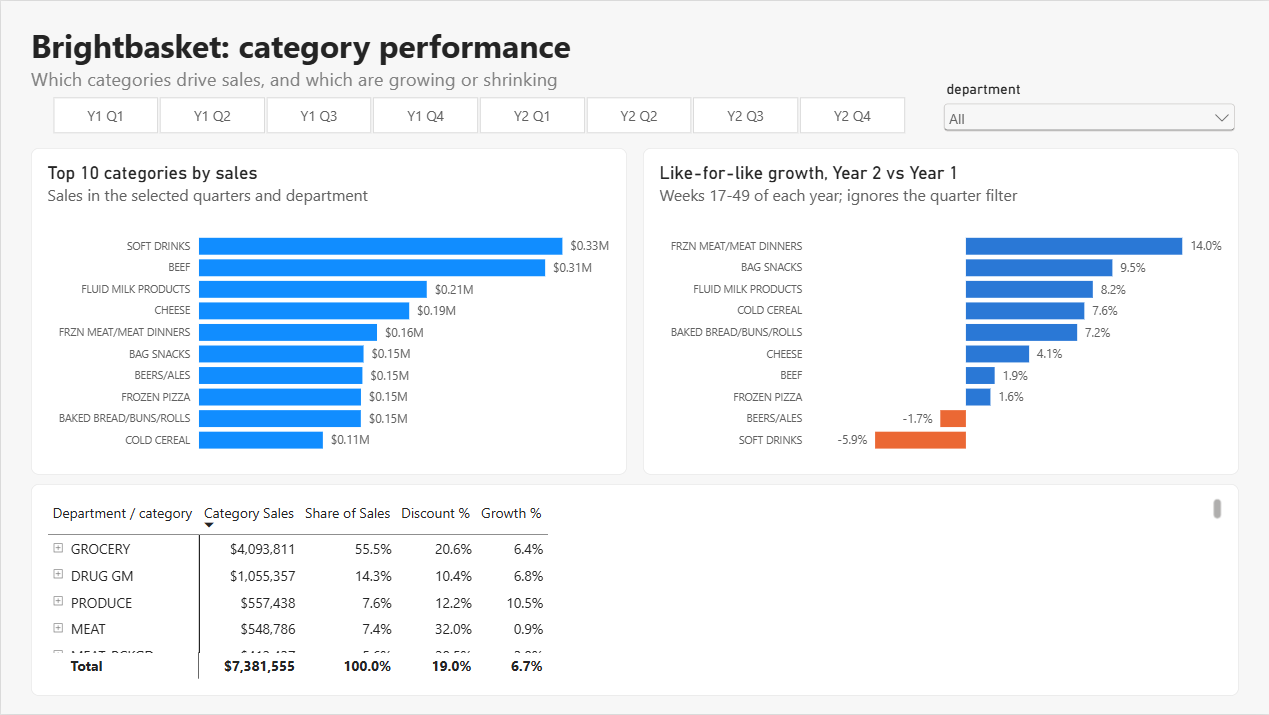

What the dashboard file says about the page in this screenshot:
{"tool":"powerbi","page":{"name":"Category performance","canvas":[1280,720],"ordinal":1},"visuals":[{"type":"textbox","box":[31,23,548,72],"z":0},{"type":"slicer","fields":{"Values":["fact_category_week.department"]},"box":[947,80,304,56],"z":1000},{"type":"slicer","fields":{"Values":["dim_week.Quarter"]},"box":[31.1,96,900,40],"z":2000},{"type":"clusteredBarChart","title":"Top 10 categories by sales","fields":{"Category":["fact_category_week.commodity_desc"],"Y":["_Measures.Category Sales"]},"box":[31,148,602,330],"z":3000},{"type":"clusteredBarChart","title":"Like-for-like growth, Year 2 vs Year 1","fields":{"Category":["fact_category_week.commodity_desc"],"Y":["_Measures.Growth %"]},"box":[649,148,602,330],"z":4000},{"type":"pivotTable","fields":{"Values":["_Measures.Category Sales","_Measures.Share of Sales","_Measures.Category Discount %","_Measures.Growth %"],"Rows":["fact_category_week.department","fact_category_week.commodity_desc"]},"box":[31,488,1220,214],"z":5000}]}

Visuals, with their boxes in screenshot pixels (x1, y1, x2, y2), scaled from the page's 1280x720 canvas onto the 1269x715 screenshot:
textbox: [x1=31, y1=23, x2=574, y2=94]
slicer - fact_category_week.department: [x1=939, y1=79, x2=1240, y2=135]
slicer - dim_week.Quarter: [x1=31, y1=95, x2=923, y2=135]
"Top 10 categories by sales" clusteredBarChart: [x1=31, y1=147, x2=628, y2=475]
"Like-for-like growth, Year 2 vs Year 1" clusteredBarChart: [x1=643, y1=147, x2=1240, y2=475]
pivotTable - _Measures.Category Sales x _Measures.Share of Sales: [x1=31, y1=485, x2=1240, y2=697]
